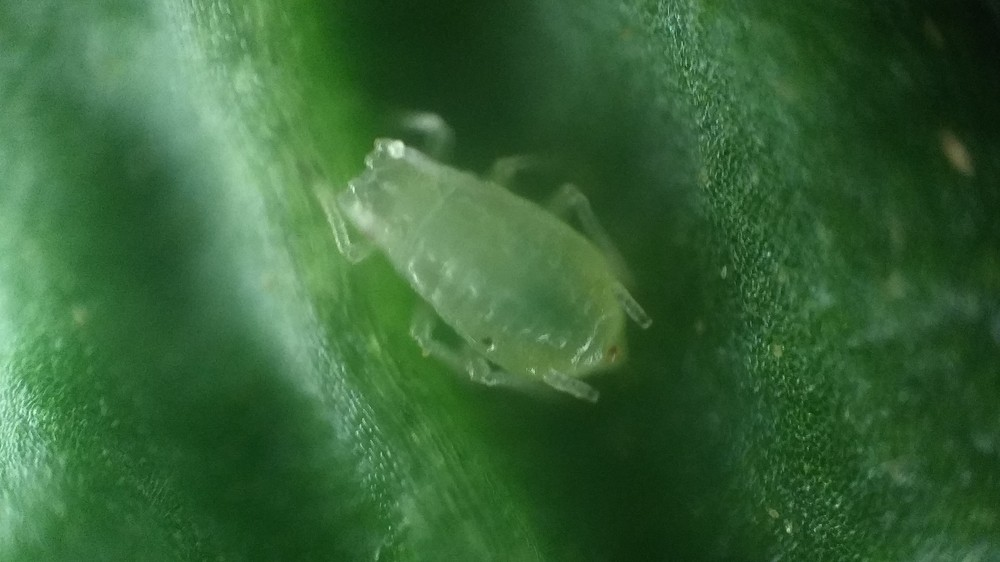Pulgon: (298, 103, 705, 454)
